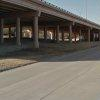Bridge: (11, 1, 94, 47)
